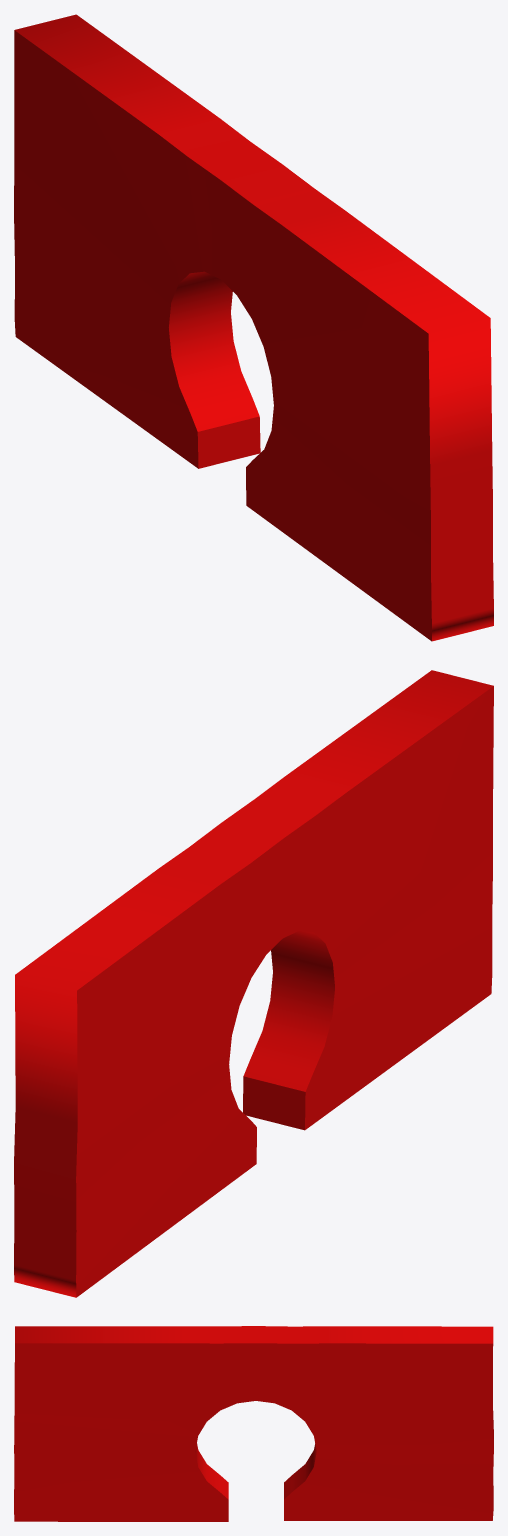
File: red circle wall.fbx
3 views of the same model, one above another, from view 1: azimuth 30°, elevation 25°; view 2: azimuth 150°, elevation 25°; view 3: azimuth 270°, elevation 25° (orthographic). The views are drawn at different scales.
Visible parts, largest first — view 1: pPipe1; view 2: pPipe1; view 3: pPipe1.
Part boxes in pixels (left/top/right/bottom): pPipe1: left=14, top=14, right=493, bottom=641; pPipe1: left=14, top=670, right=493, bottom=1297; pPipe1: left=14, top=1326, right=493, bottom=1521.
Bounding box in the file's own units: 0.1843 × 0.8346 × 2.04.
